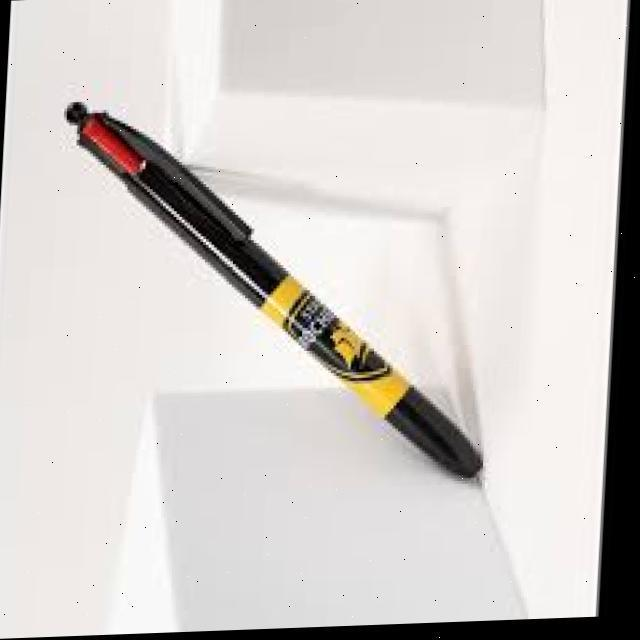Pen - Non Recyclable: (44, 89, 504, 502)
